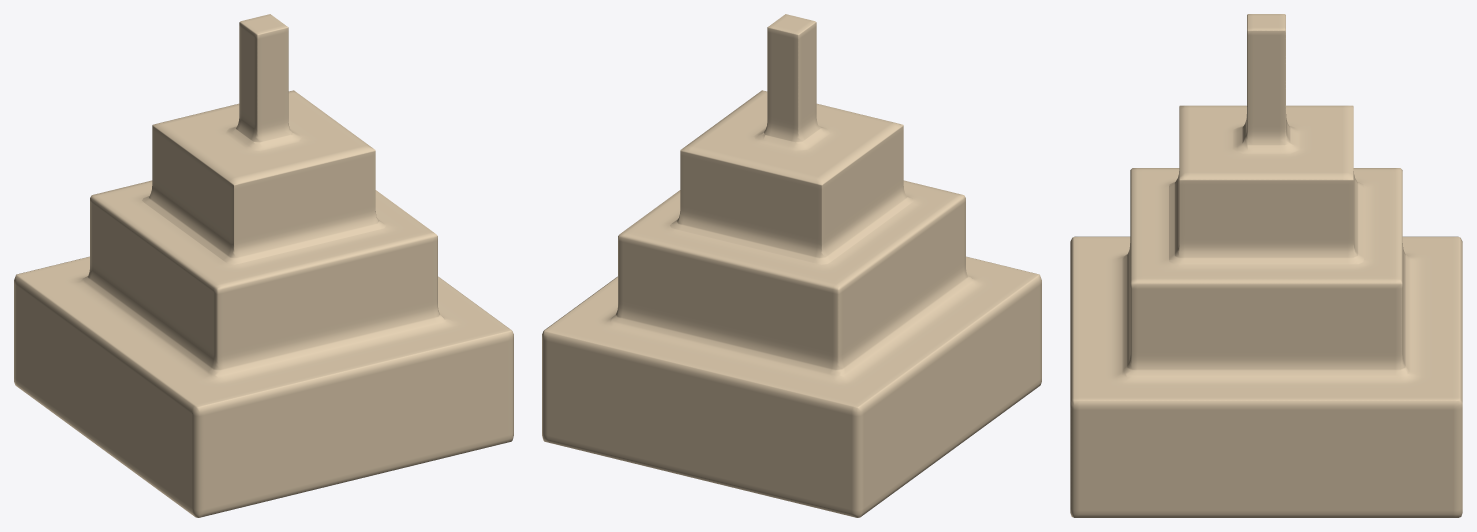
File: temple.glb
3 views of the same model, side by side, from view 1: azimuth 30°, elevation 25°; view 2: azimuth 150°, elevation 25°; view 3: azimuth 270°, elevation 25° (orthographic). The views are drawn at different scales.
Visible parts, largest first — view 1: temple; view 2: temple; view 3: temple.
Part boxes in pixels (<box>): temple: <box>14,14,513,517</box>; temple: <box>542,14,1041,517</box>; temple: <box>1070,14,1462,517</box>.
Size of the model in its own units: 3.6 by 4.2 by 3.6.
